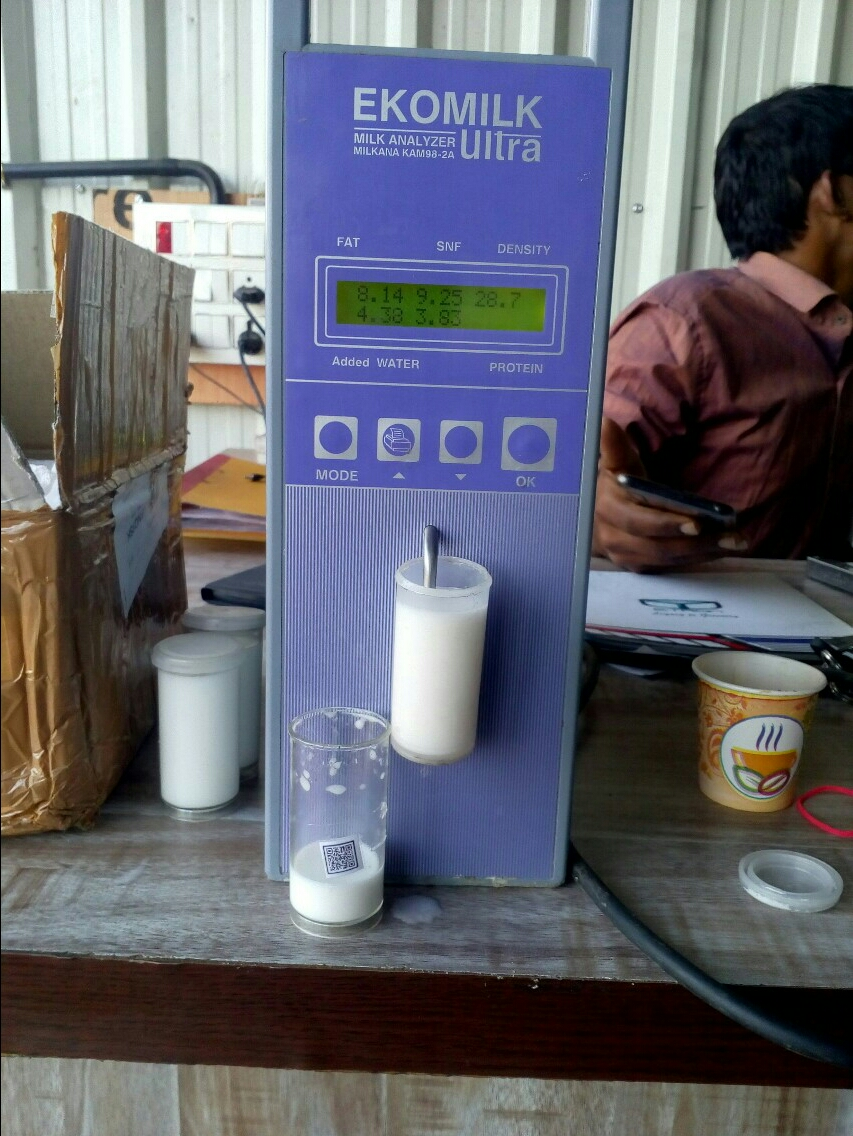lcd: (320, 269, 586, 359)
qr: (298, 831, 394, 899)
